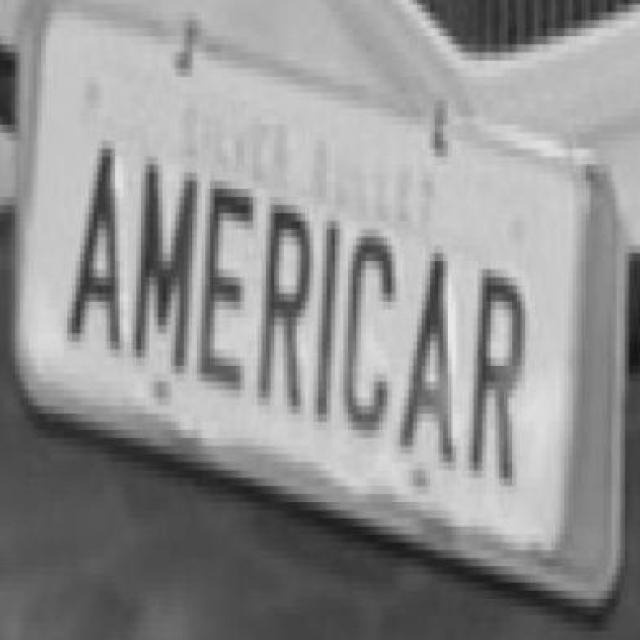licenseplate: (4, 0, 626, 619)
